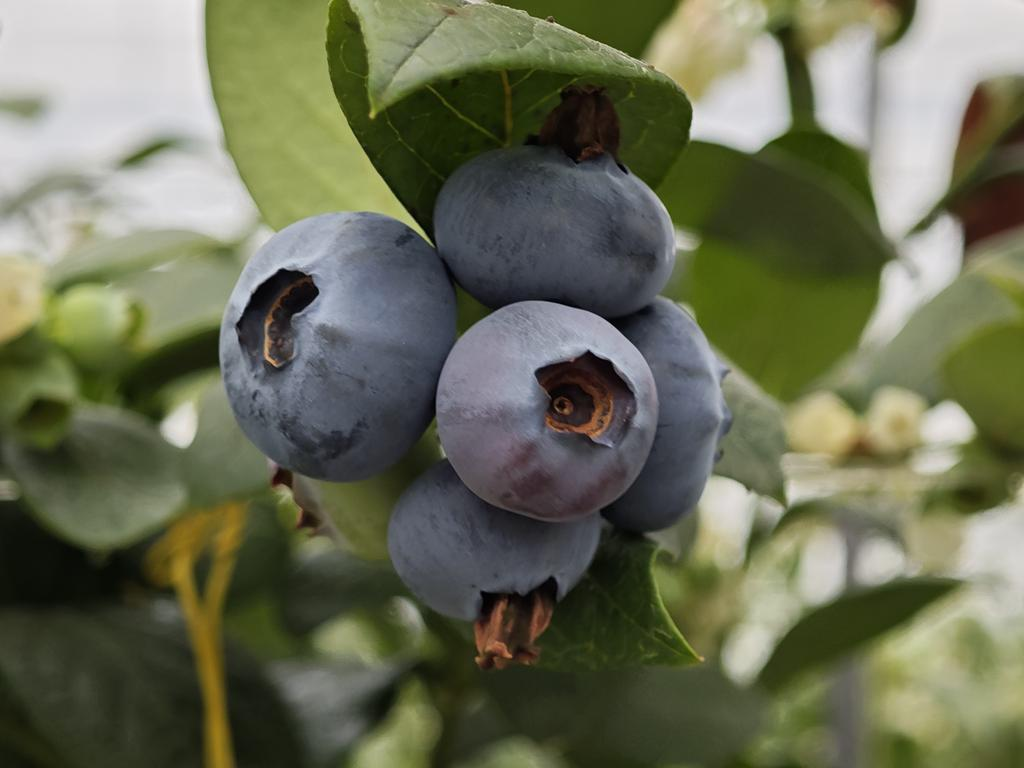RipeBlueBerry: (213, 209, 461, 483), (436, 293, 661, 521), (431, 133, 680, 315), (384, 469, 610, 633), (604, 291, 734, 536)
